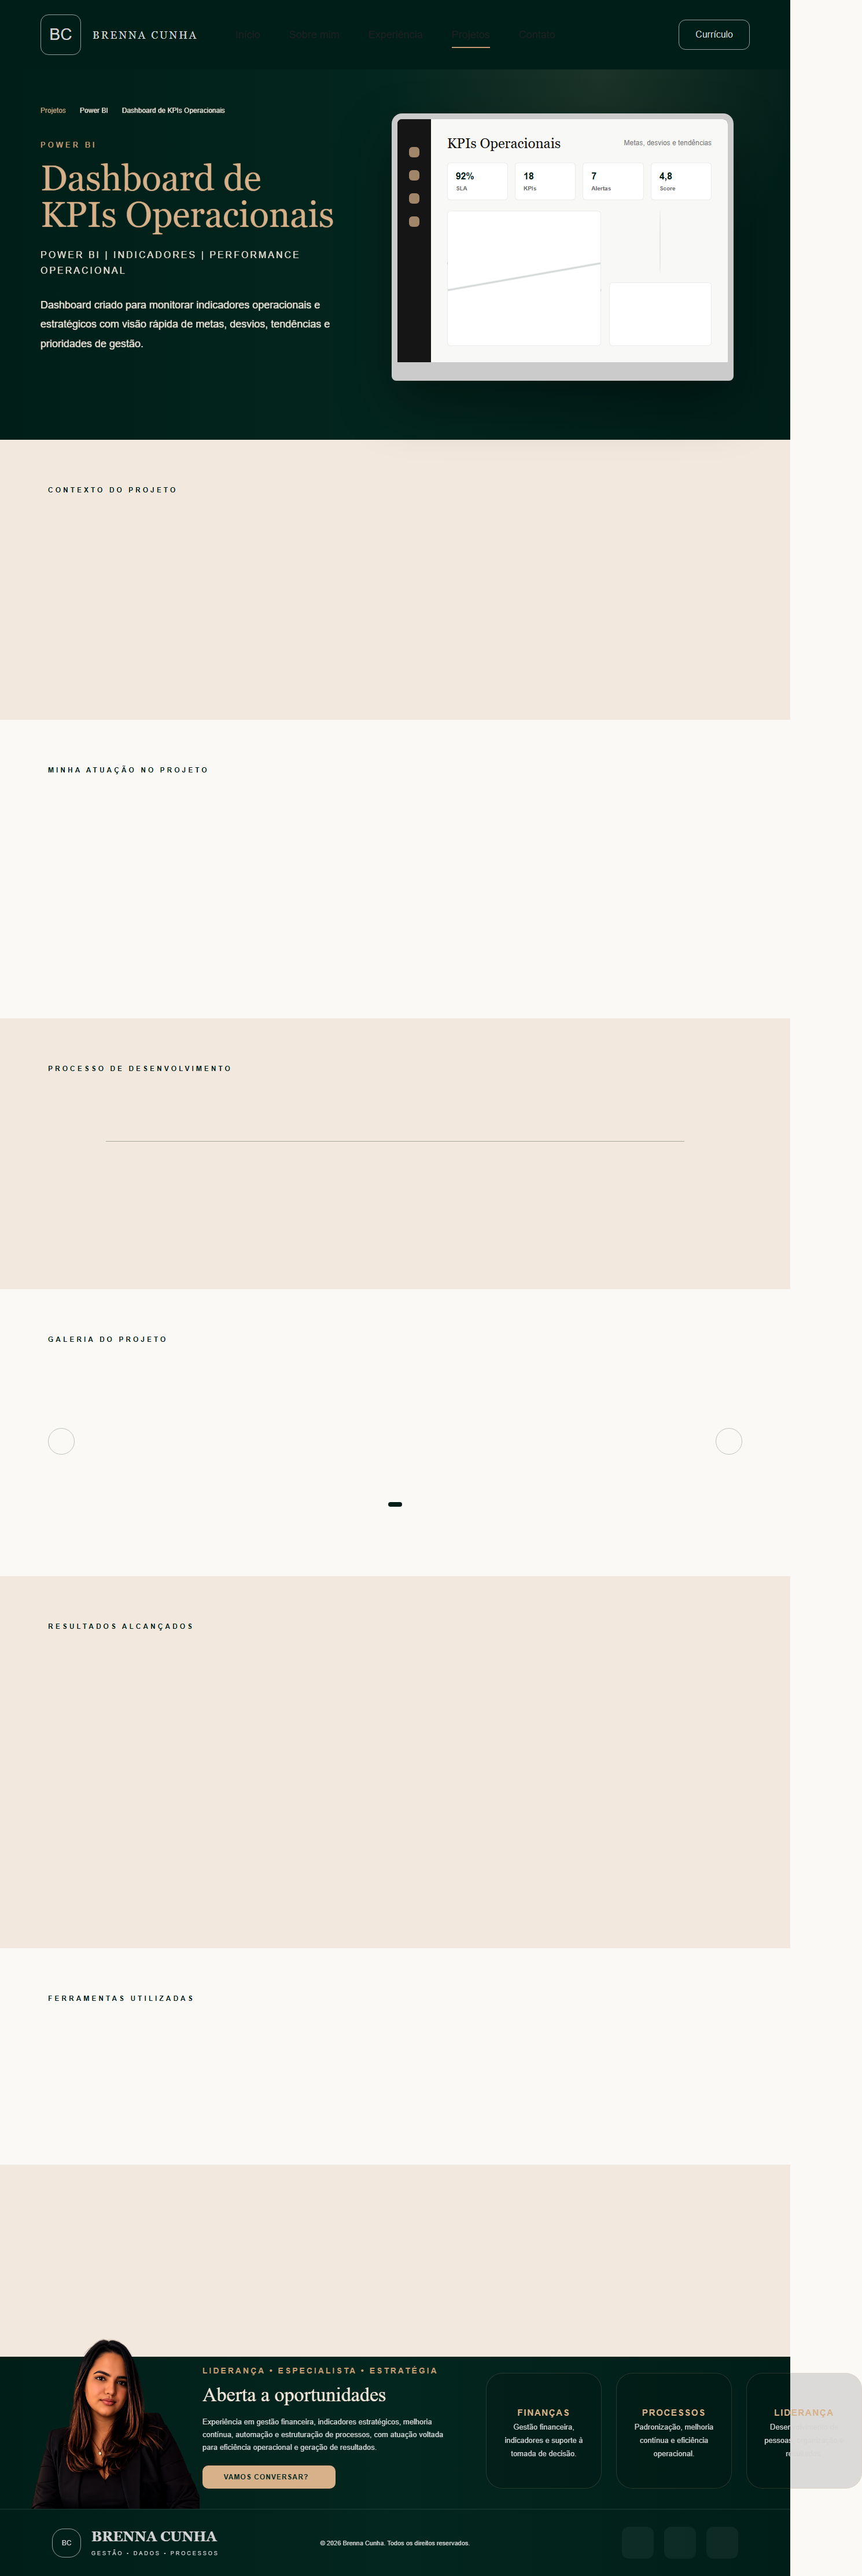

The page's visual inventory and layout, read from the dashboard file:
{"tool":"powerbi","page":{"name":"Dashboard","canvas":[1280,720],"ordinal":0},"visuals":[{"type":"card","fields":{"Values":["_Medidas.Colaboradores"]},"box":[172.3,166.3,130,51.4],"z":0},{"type":"card","fields":{"Values":["_Medidas.Contratações"]},"box":[378,166.3,130,51.4],"z":1000},{"type":"card","fields":{"Values":["_Medidas.Desligamentos"]},"box":[588.6,166.3,130,51.4],"z":2000},{"type":"card","fields":{"Values":["_Medidas.Turnover"]},"box":[789.2,166.3,130,51.4],"z":3000},{"type":"lineClusteredColumnComboChart","fields":{"Category":["DIM_TEMPO.Data.Variation.Hierarquia de datas.Ano"],"Y":["_Medidas.Contratações","_Medidas.Desligamentos"],"Y2":["_Medidas.Colaboradores"]},"box":[152.2,281.2,789.2,168.3],"z":4000},{"type":"lineChart","fields":{"Category":["DIM_TEMPO.Data.Variation.Hierarquia de datas.Ano"],"Y":["_Medidas.Turnover"]},"box":[152.2,496.9,789.2,165.3],"z":5000},{"type":"donutChart","fields":{"Y":["_Medidas.Colaboradores"],"Category":["Dados.Empresa"]},"box":[972.6,483.8,257,178.4],"z":6000},{"type":"pivotTable","fields":{"Rows":["Dados.Cargo"],"Values":["_Medidas.Colaboradores"]},"box":[978.6,146.1,252,269.1],"z":7000},{"type":"slicer","fields":{"Values":["DIM_TEMPO.Data.Variation.Hierarquia de datas.Ano"]},"box":[631.9,39.3,173.4,59.5],"z":8000},{"type":"ChicletSlicer1448559807354","fields":{"Category":["Dados.Empresa"]},"box":[815.4,45,415.2,59.5],"z":9000},{"type":"actionButton","box":[27.2,39.3,59.5,59.5],"z":10000},{"type":"actionButton","box":[27.2,253,47.4,47.4],"z":11000}]}

Visuals, with their boxes on the page's 1280x720 design canvas (x1, y1, x2, y2). These are canvas units, not pixel positions in the 862x2576 screenshot, which may show the page scaled, cropped or inside an application window:
card - _Medidas.Colaboradores: x1=172 y1=166 x2=302 y2=218
card - _Medidas.Contratações: x1=378 y1=166 x2=508 y2=218
card - _Medidas.Desligamentos: x1=589 y1=166 x2=719 y2=218
card - _Medidas.Turnover: x1=789 y1=166 x2=919 y2=218
lineClusteredColumnComboChart - DIM_TEMPO.Data.Variation.Hierarquia de datas.Ano x _Medidas.Contratações: x1=152 y1=281 x2=941 y2=450
lineChart - DIM_TEMPO.Data.Variation.Hierarquia de datas.Ano x _Medidas.Turnover: x1=152 y1=497 x2=941 y2=662
donutChart - _Medidas.Colaboradores x Dados.Empresa: x1=973 y1=484 x2=1230 y2=662
pivotTable - Dados.Cargo x _Medidas.Colaboradores: x1=979 y1=146 x2=1231 y2=415
slicer - DIM_TEMPO.Data.Variation.Hierarquia de datas.Ano: x1=632 y1=39 x2=805 y2=99
ChicletSlicer1448559807354 - Dados.Empresa: x1=815 y1=45 x2=1231 y2=104
actionButton: x1=27 y1=39 x2=87 y2=99
actionButton: x1=27 y1=253 x2=75 y2=300
